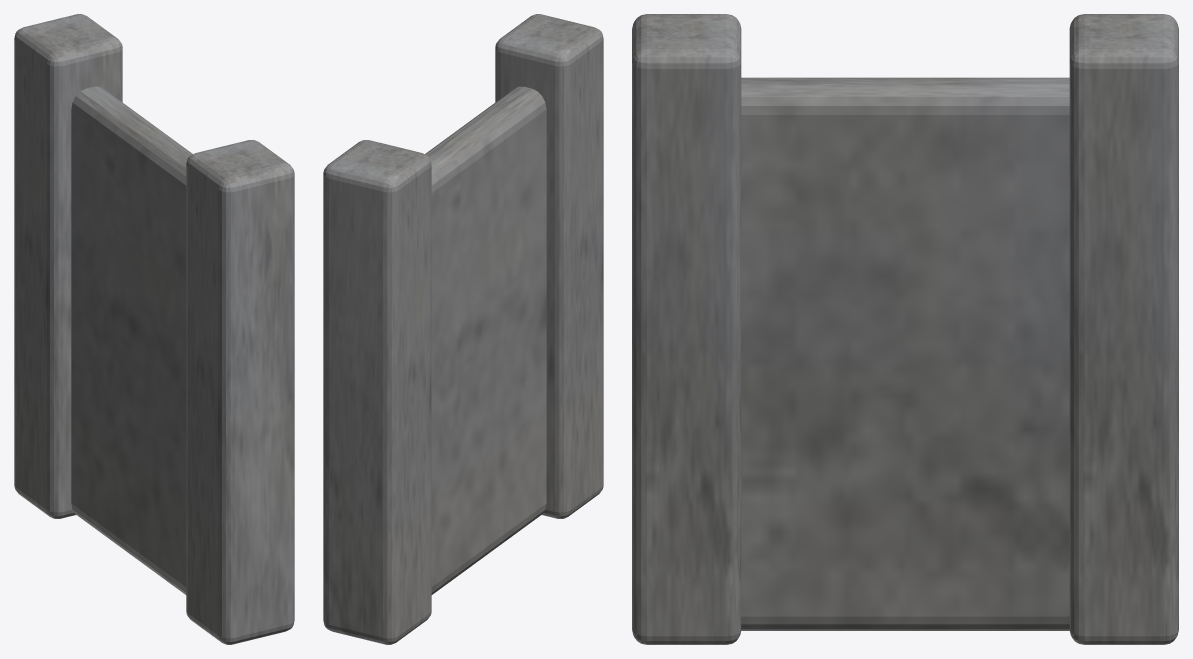
Rendered from wall.fbx.
The picture shows the model from 3 angles, left to right: view 1: azimuth 30°, elevation 25°; view 2: azimuth 150°, elevation 25°; view 3: azimuth 270°, elevation 25°; orthographic projection. The views are drawn at different scales.
Parts seen in each view (by area): view 1: Wall; view 2: Wall; view 3: Wall.
Part boxes in pixels (x1,y1,x2,y2): Wall: [14, 14, 294, 644]; Wall: [323, 14, 603, 644]; Wall: [632, 14, 1178, 644].
Bounding box in the file's own units: 200 × 1200 × 1000.
1 material, 1 textured.
